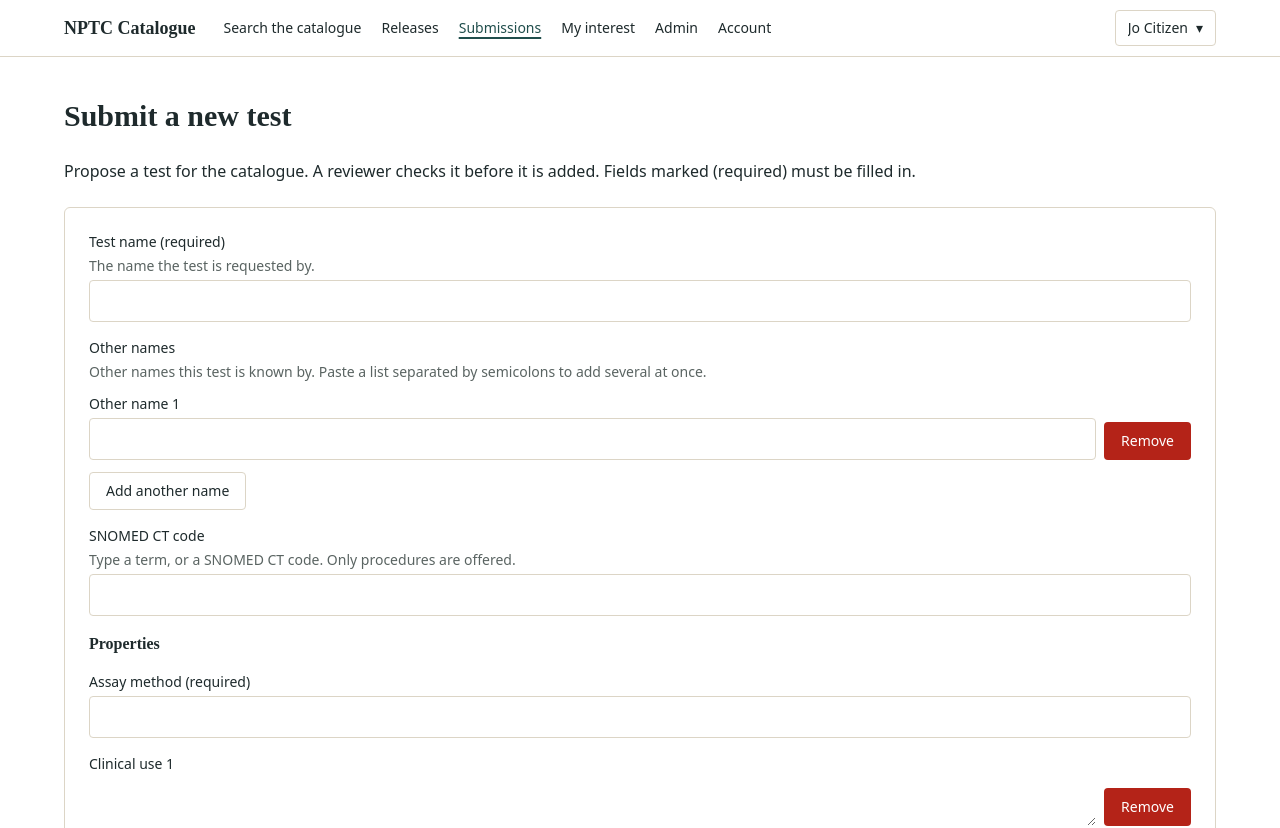
Test: SubmissionNewPage fields › splits a pasted list of names into one row each
This screenshot has width=1280, height=828.
Expected: the field labelled "Test name (required)" is shown, [89,280,1191,322]
Click the field labelled "Other name 1" at (593, 438), box [89,418,1096,460]
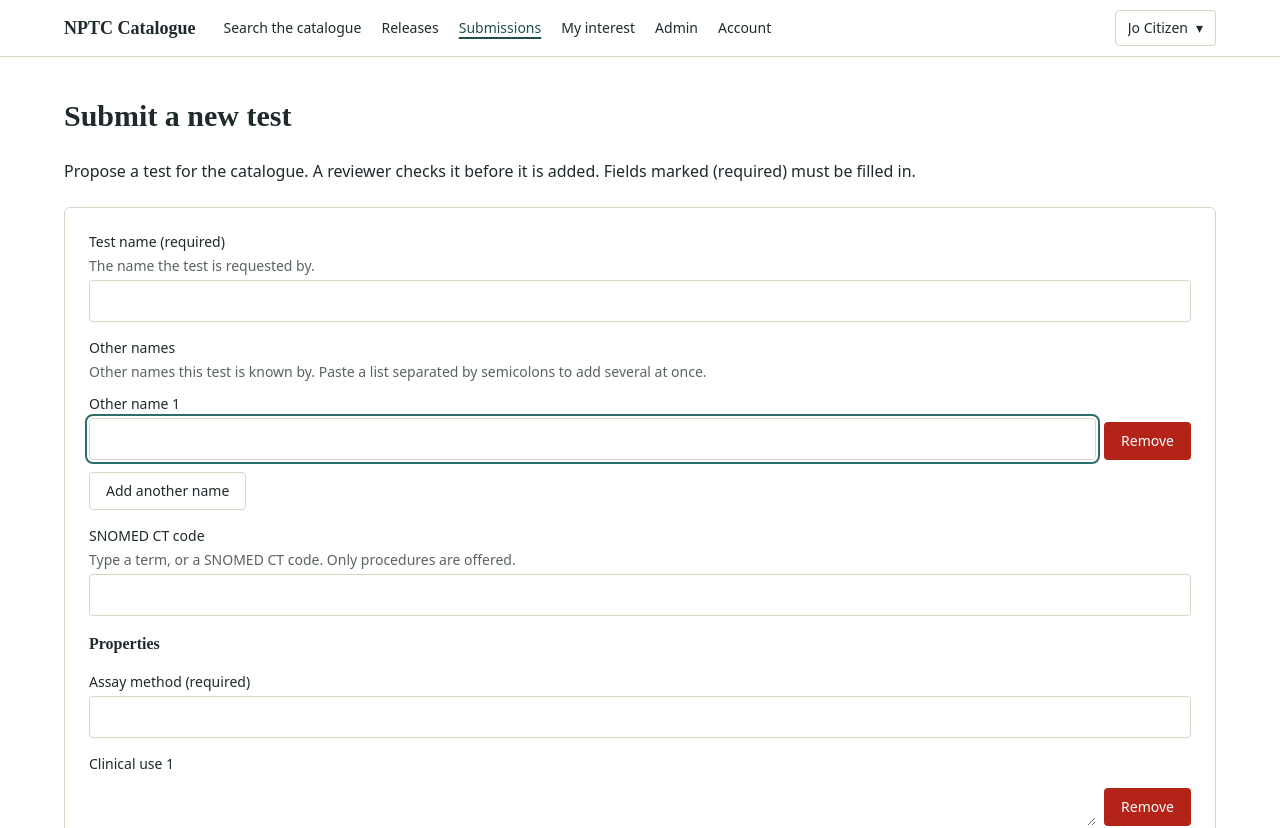
Type keys "Ferritin; Serum Fe store; Ferritin level"
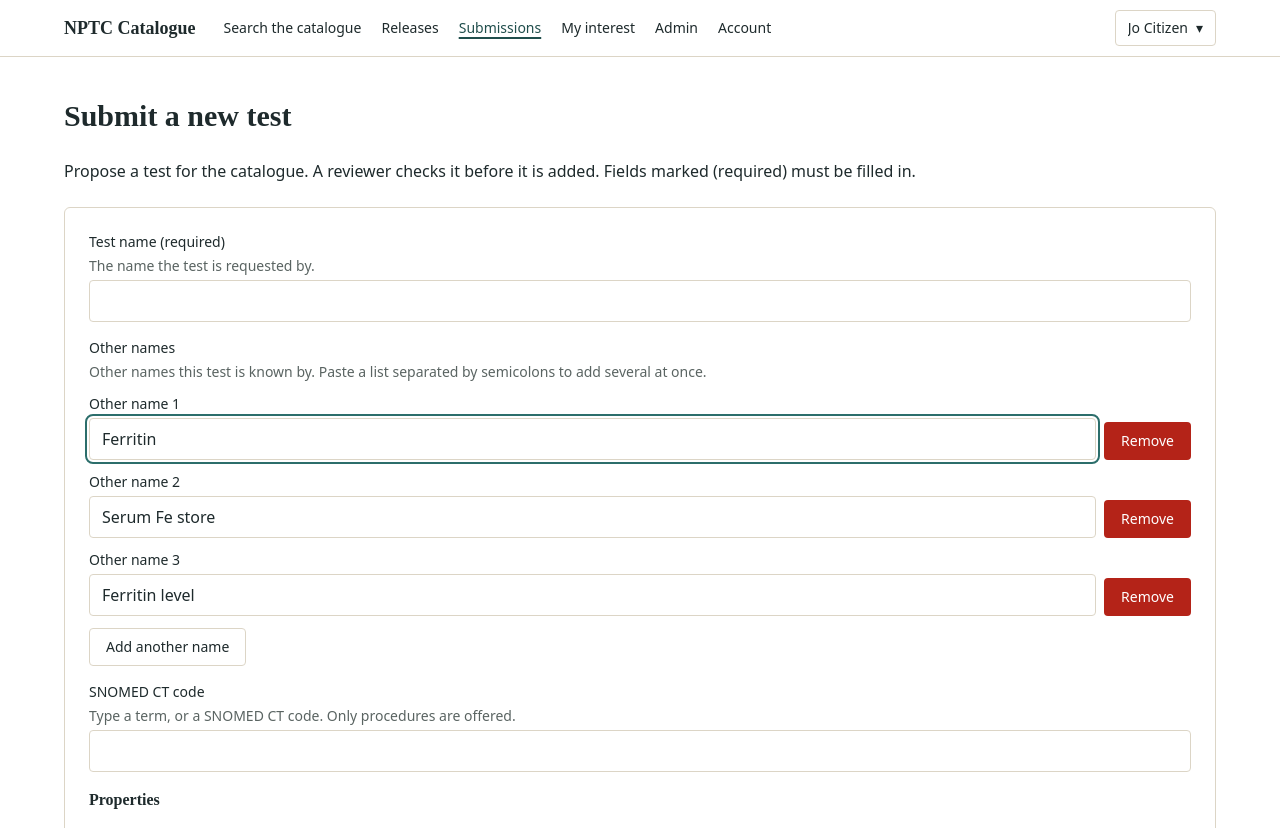
Now the field labelled "Other name 1" holds "Ferritin", box [89,418,1096,460]
Now the field labelled "Other name 2" holds "Serum Fe store", box [89,496,1096,538]
Now the field labelled "Other name 3" holds "Ferritin level", box [89,574,1096,616]
